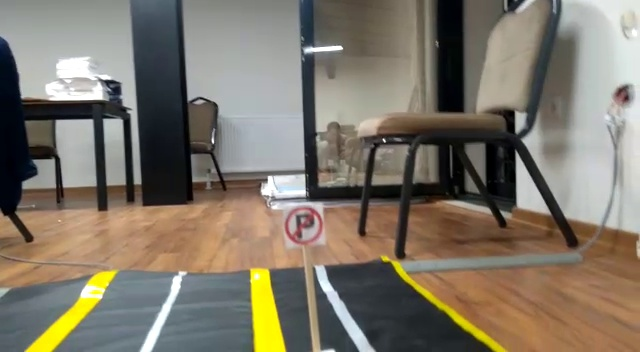park_yapilmaz: (281, 201, 325, 246)
